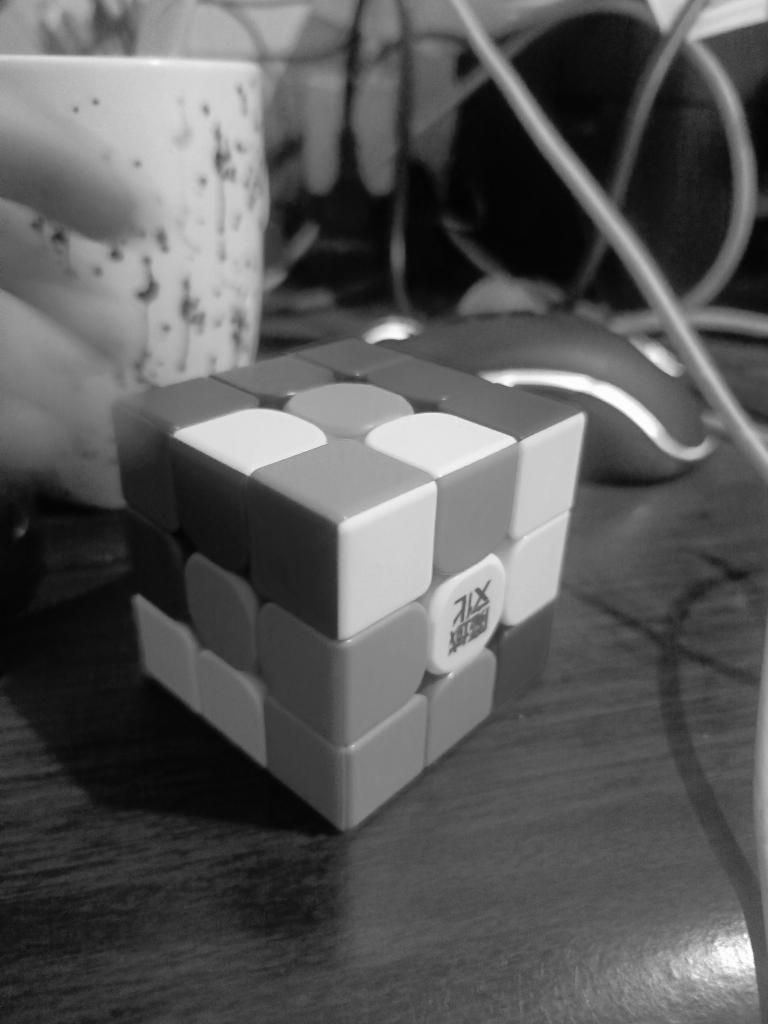rubik: (112, 332, 588, 832)
